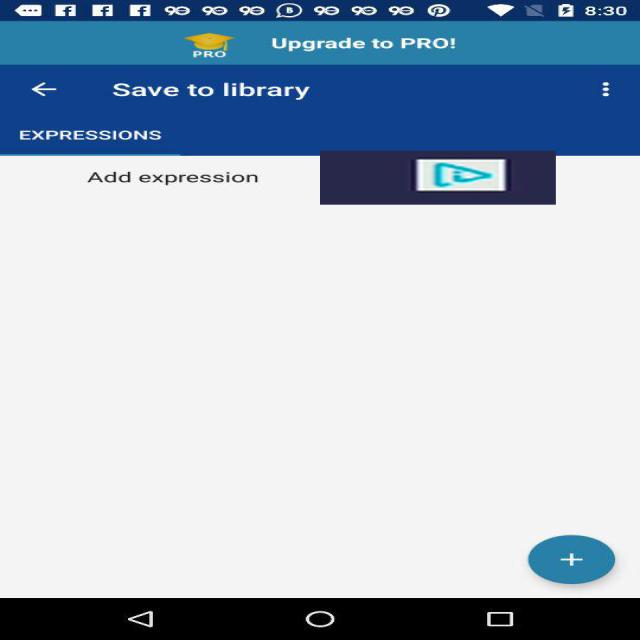sneaking: (320, 150, 556, 204)
